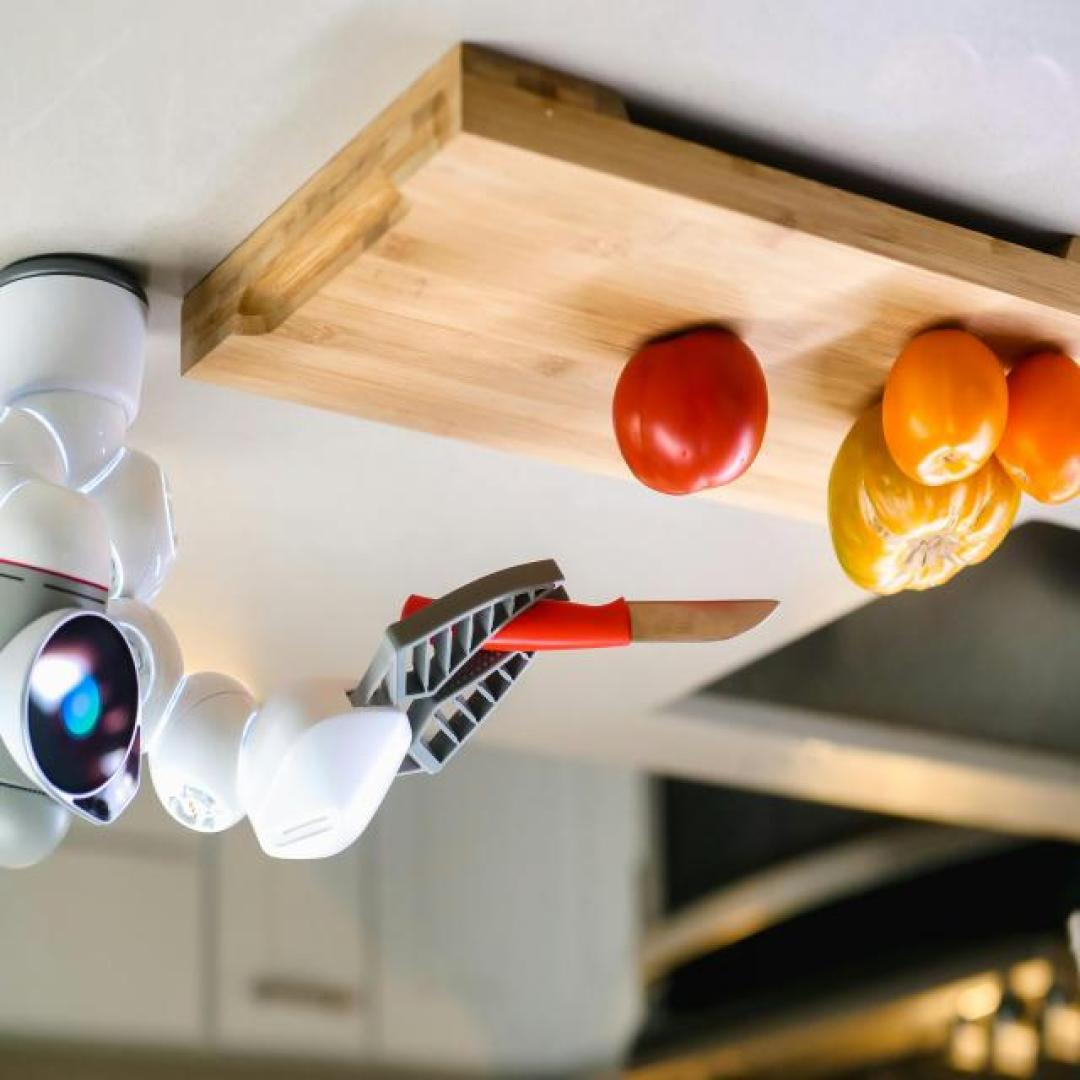matang: (611, 329, 769, 498)
